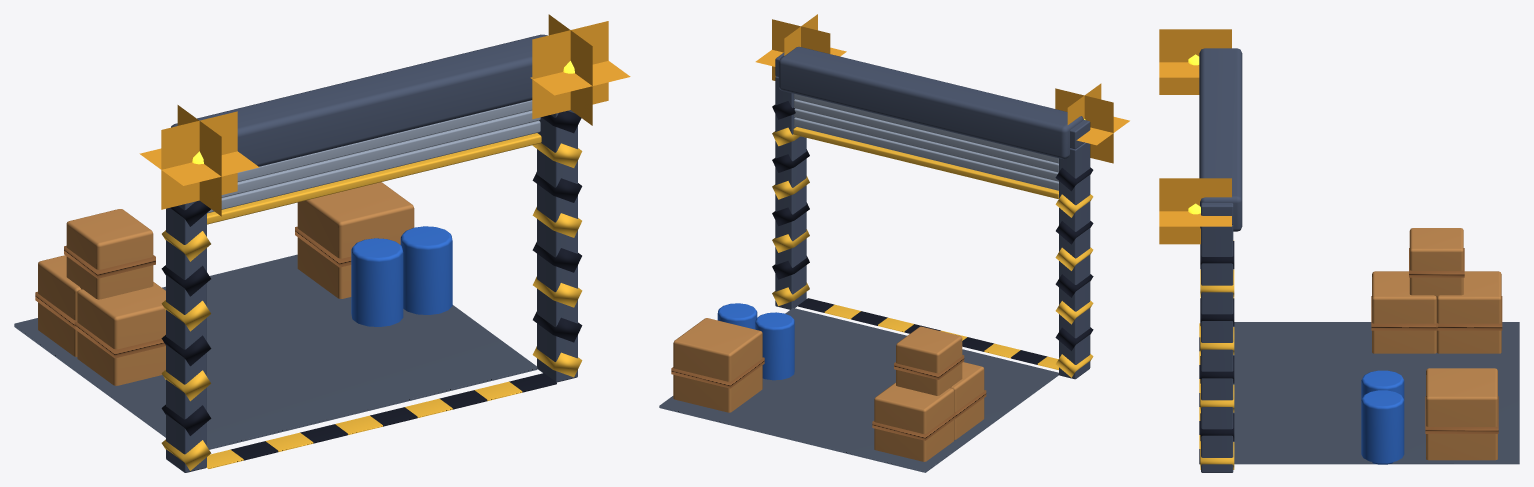
The model's file is aqua_loading_door.glb.
The picture shows the model from 3 angles, left to right: view 1: azimuth 30°, elevation 25°; view 2: azimuth 150°, elevation 25°; view 3: azimuth 270°, elevation 25°; orthographic projection. The views are drawn at different scales.
Parts seen in each view (by area): view 1: LoadingDoor; view 2: LoadingDoor; view 3: LoadingDoor.
Boxes of the visible parts, x1,y1,x2,y2 form: LoadingDoor: (14,14,630,472); LoadingDoor: (659,14,1129,472); LoadingDoor: (1159,29,1519,472).
Bounding box in the file's own units: 5.91 × 4.45 × 5.
